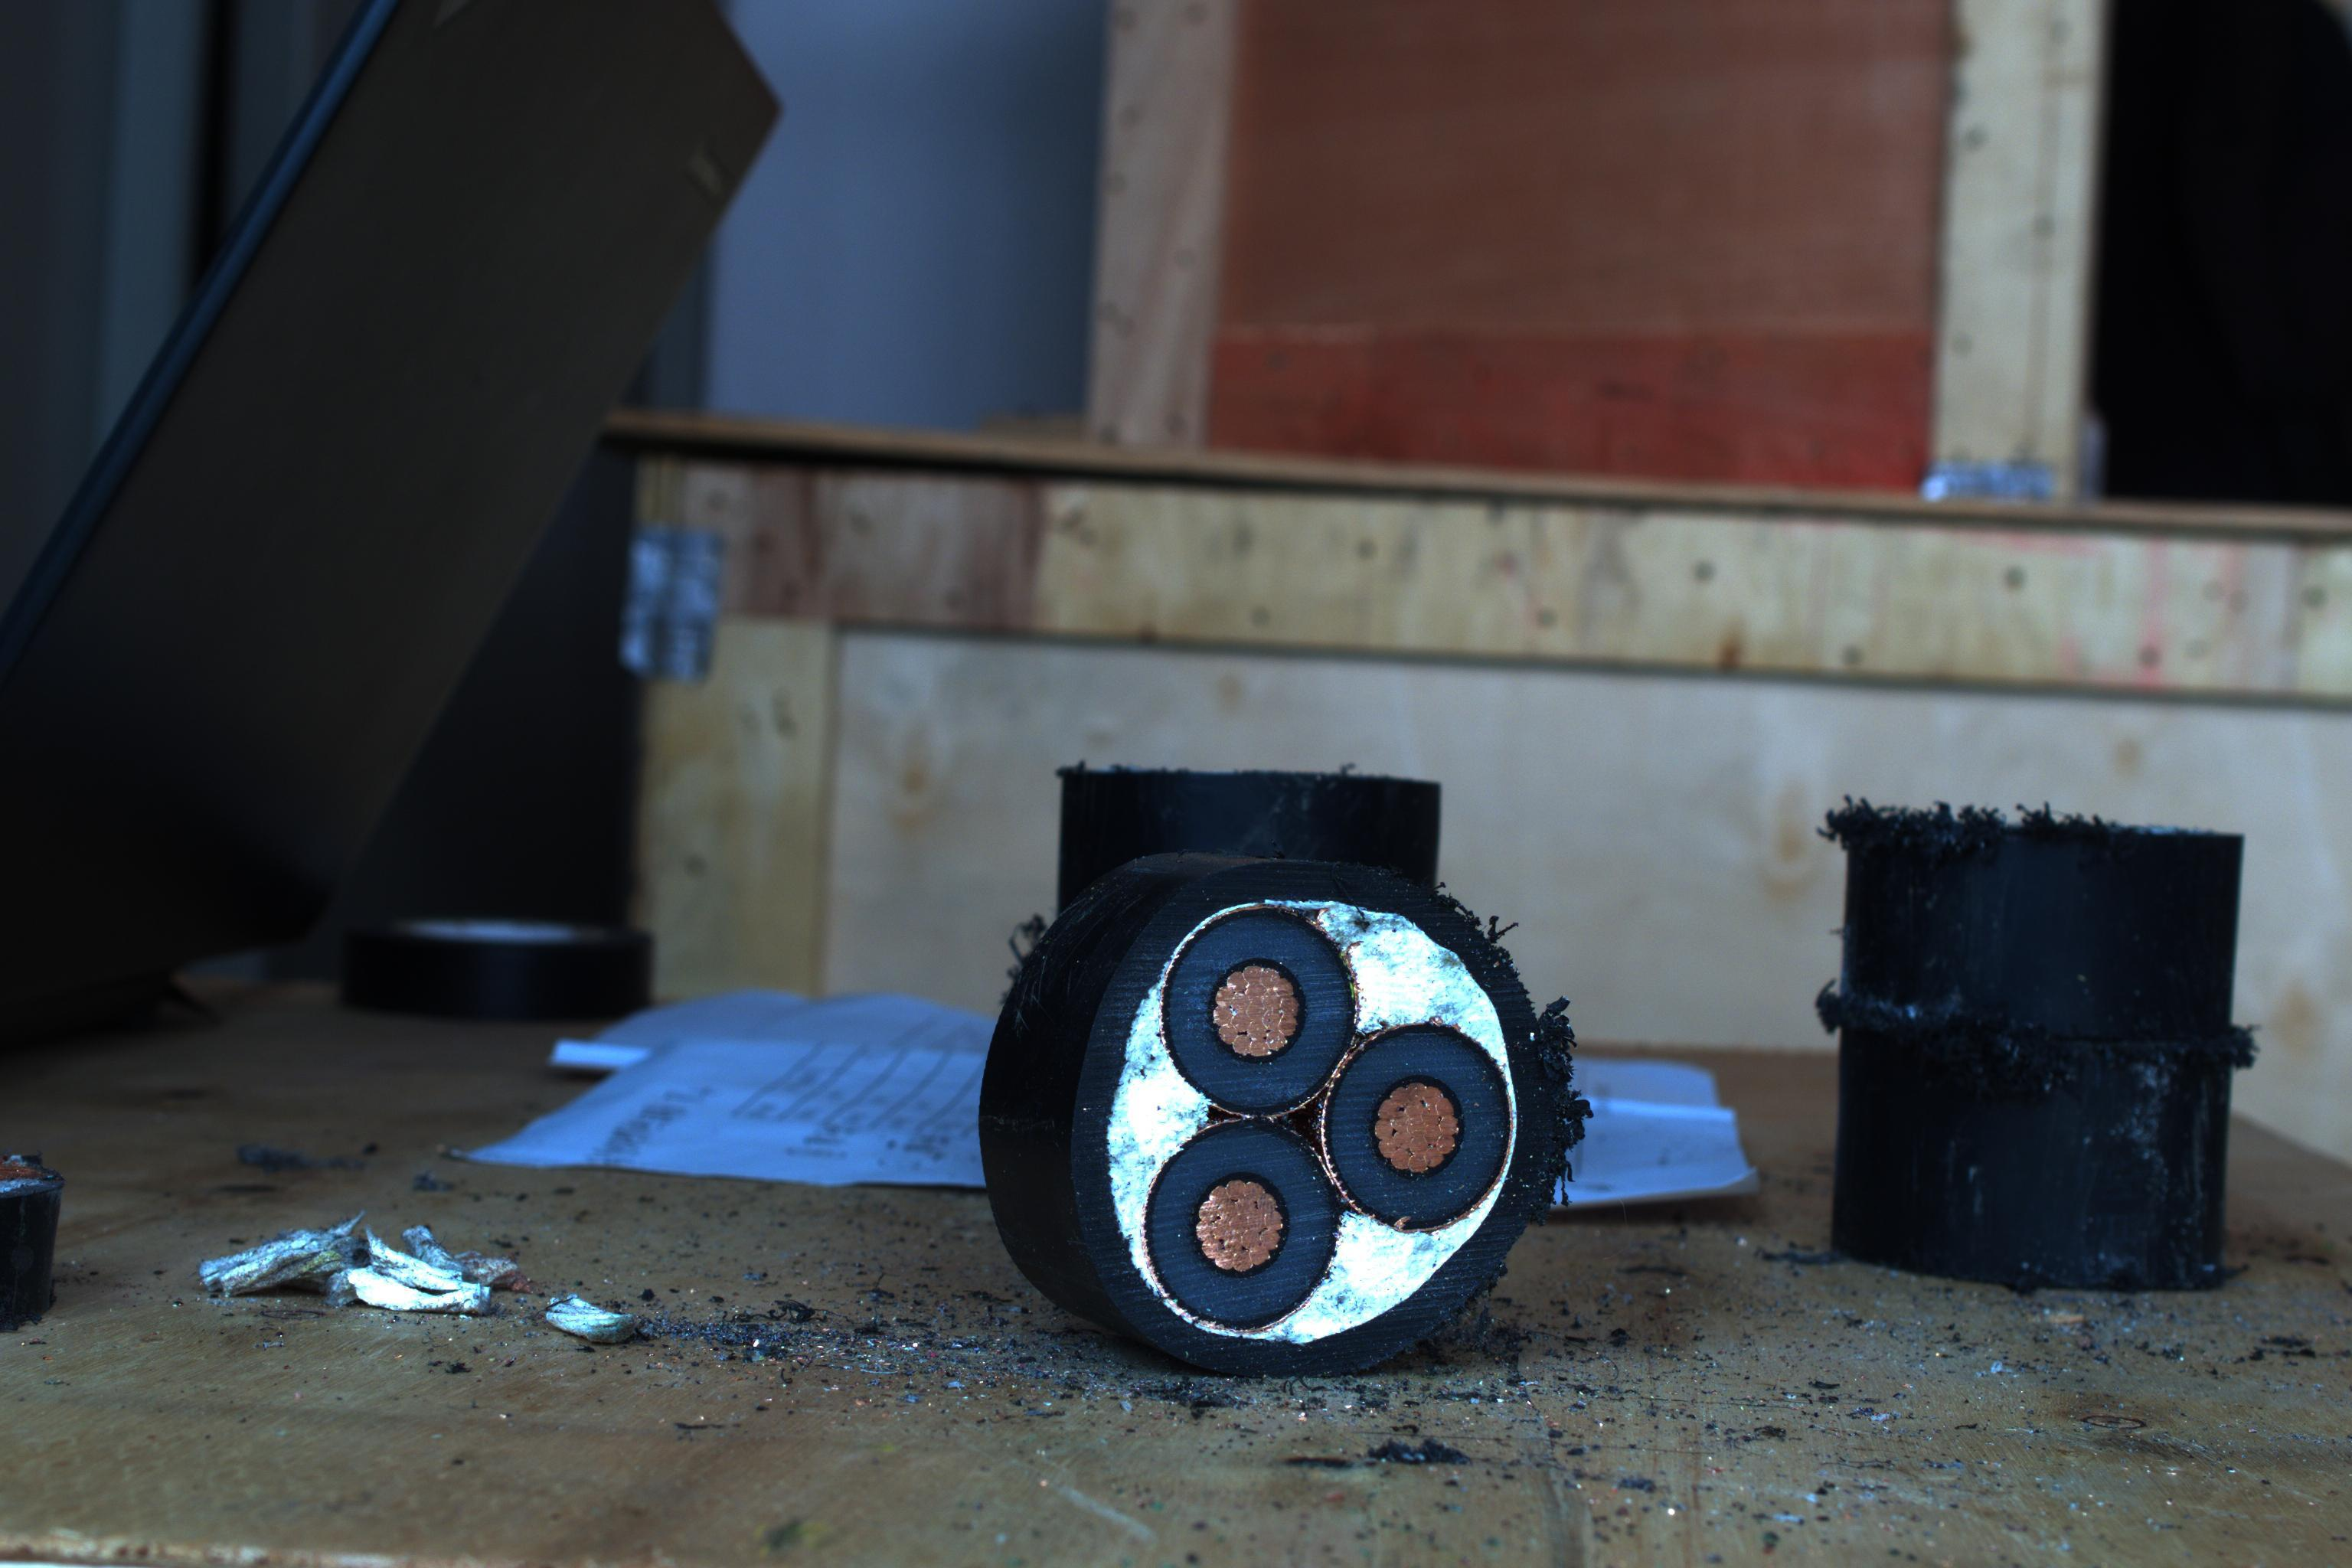YJV_8.7_10kV_3x70: (1053, 870, 1566, 1372)
